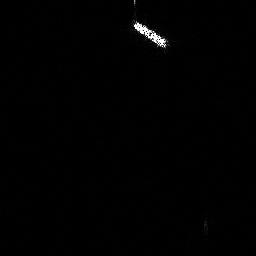ship: (133, 20, 168, 48)
